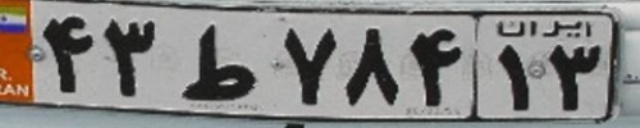1: (496, 43, 531, 110)
3: (101, 16, 161, 96), (550, 43, 604, 111)
4: (41, 14, 95, 92), (410, 28, 462, 106)
7: (282, 25, 332, 105)
8: (344, 27, 402, 106)
taa: (180, 22, 255, 101)
